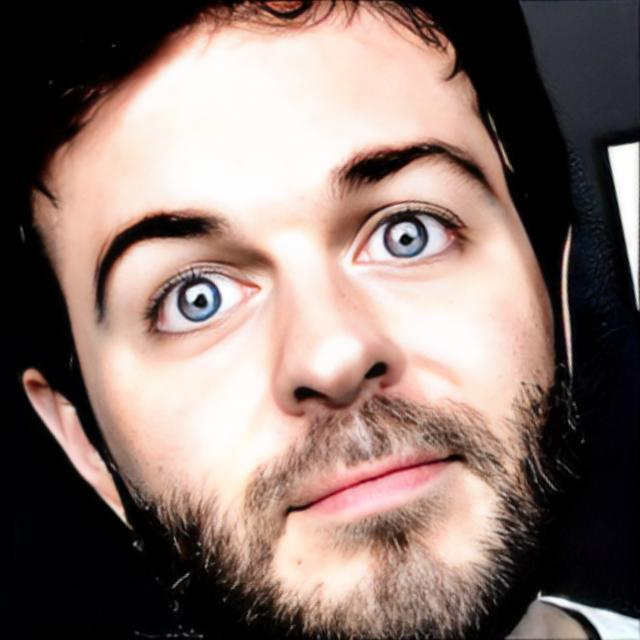surprise: (31, 0, 556, 640)
